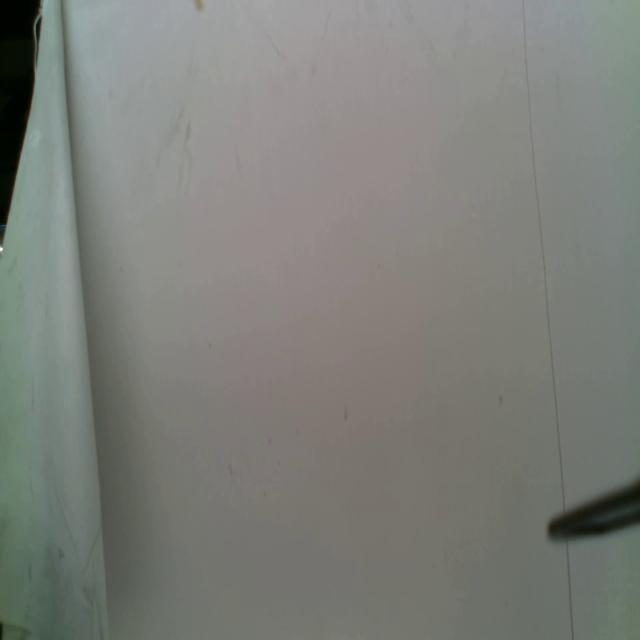crease: (522, 0, 576, 640)
